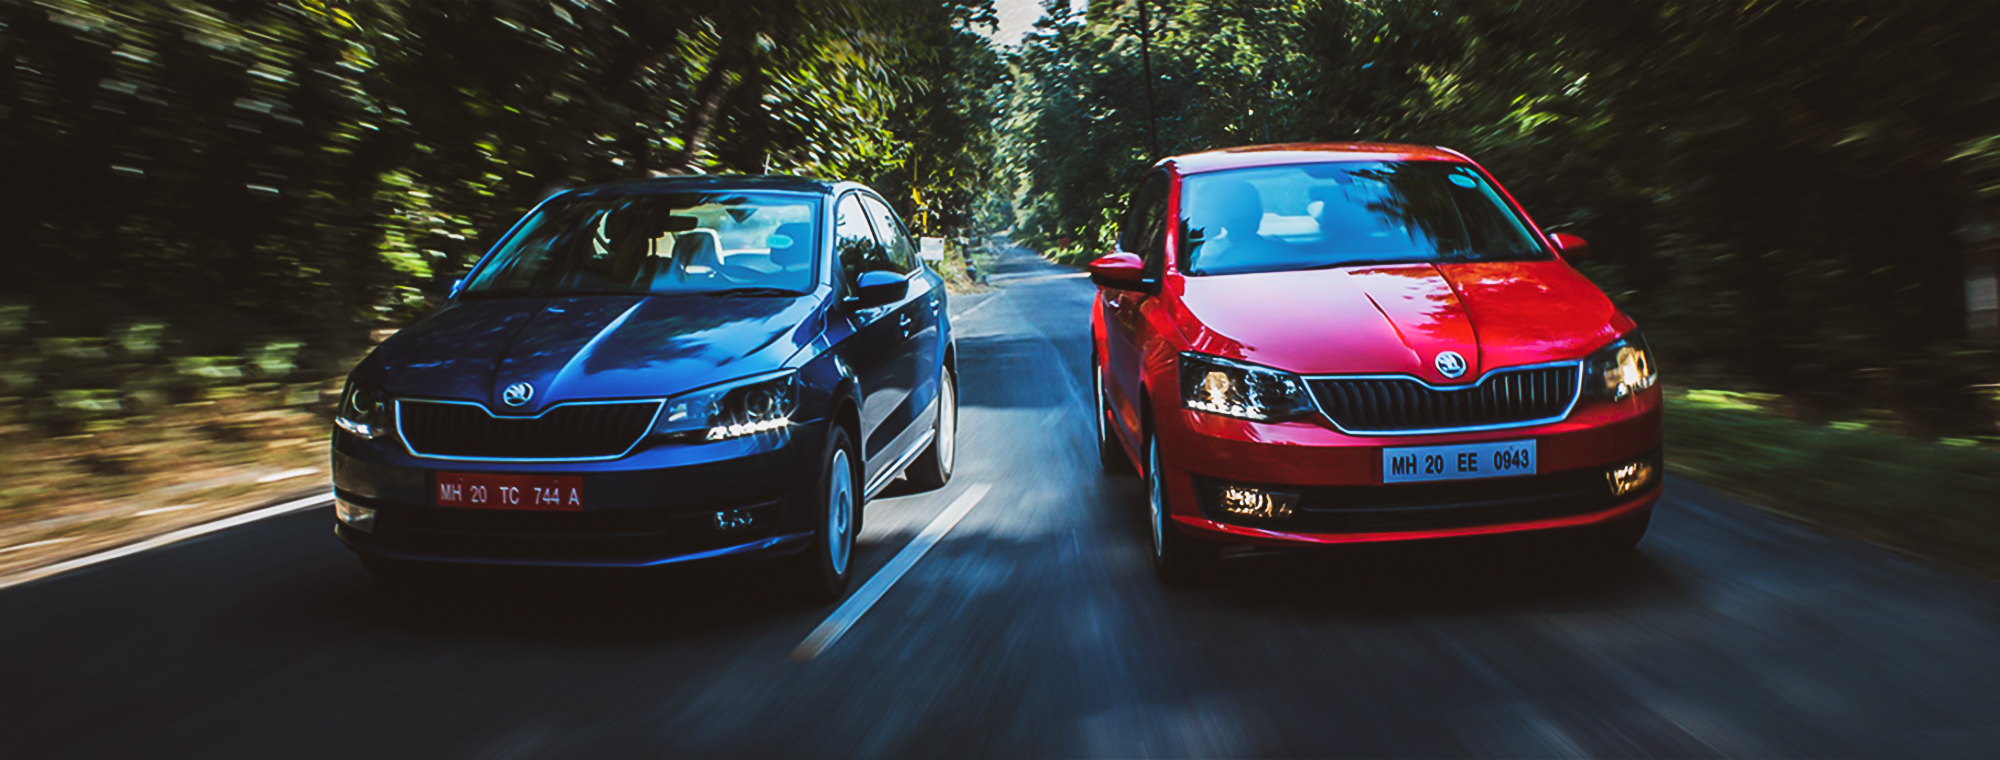numberplate: (429, 471, 588, 514), (1382, 443, 1541, 484)
